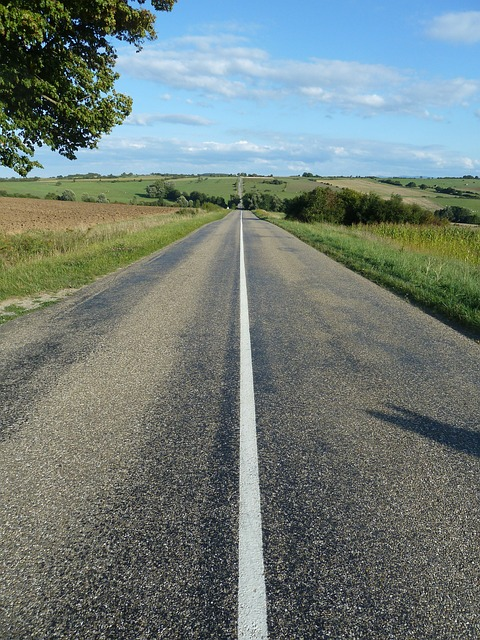straightRoad: (126, 221, 402, 607)
